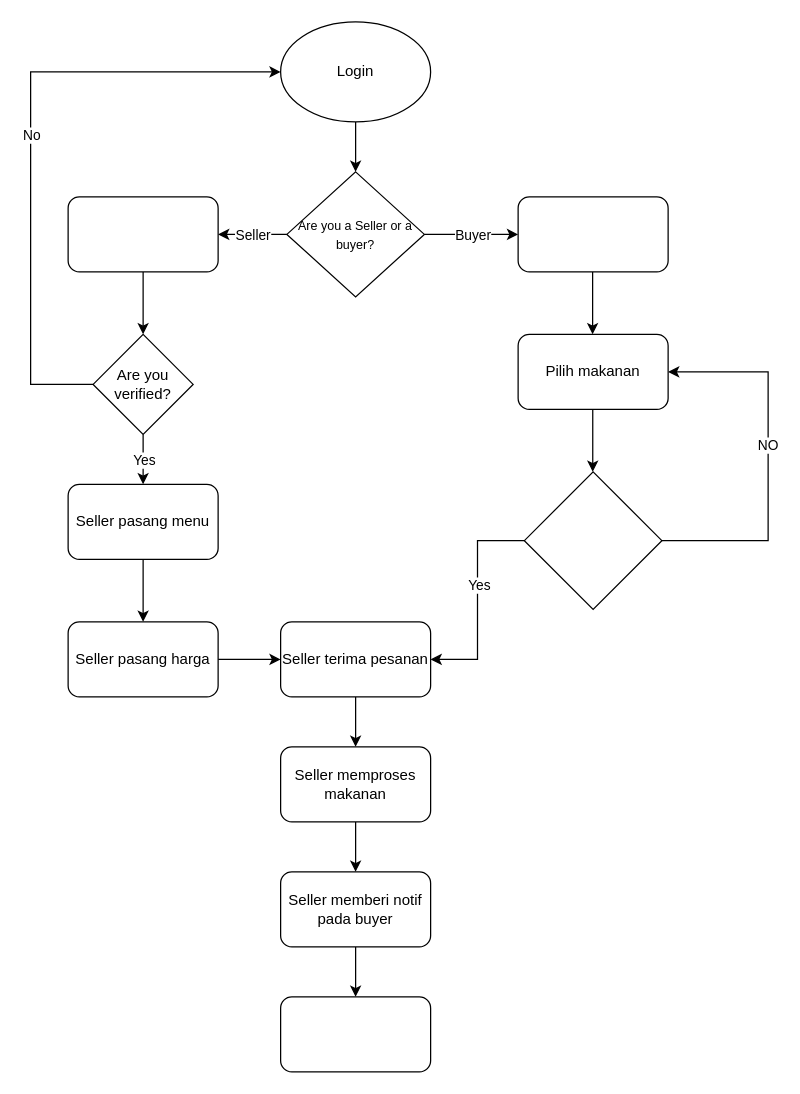
The diagram is 800 pixels wide and 1094 high, and some of its shapes have lost their labels. Here are the shapes that lost their labels. From the top down, the box of each, then its label:
(67, 196, 218, 272): Submit Verification
(517, 196, 668, 272): Pilih stan
(523, 471, 662, 609): Are You Paying?
(279, 996, 431, 1072): Buyer mengambil makanan
